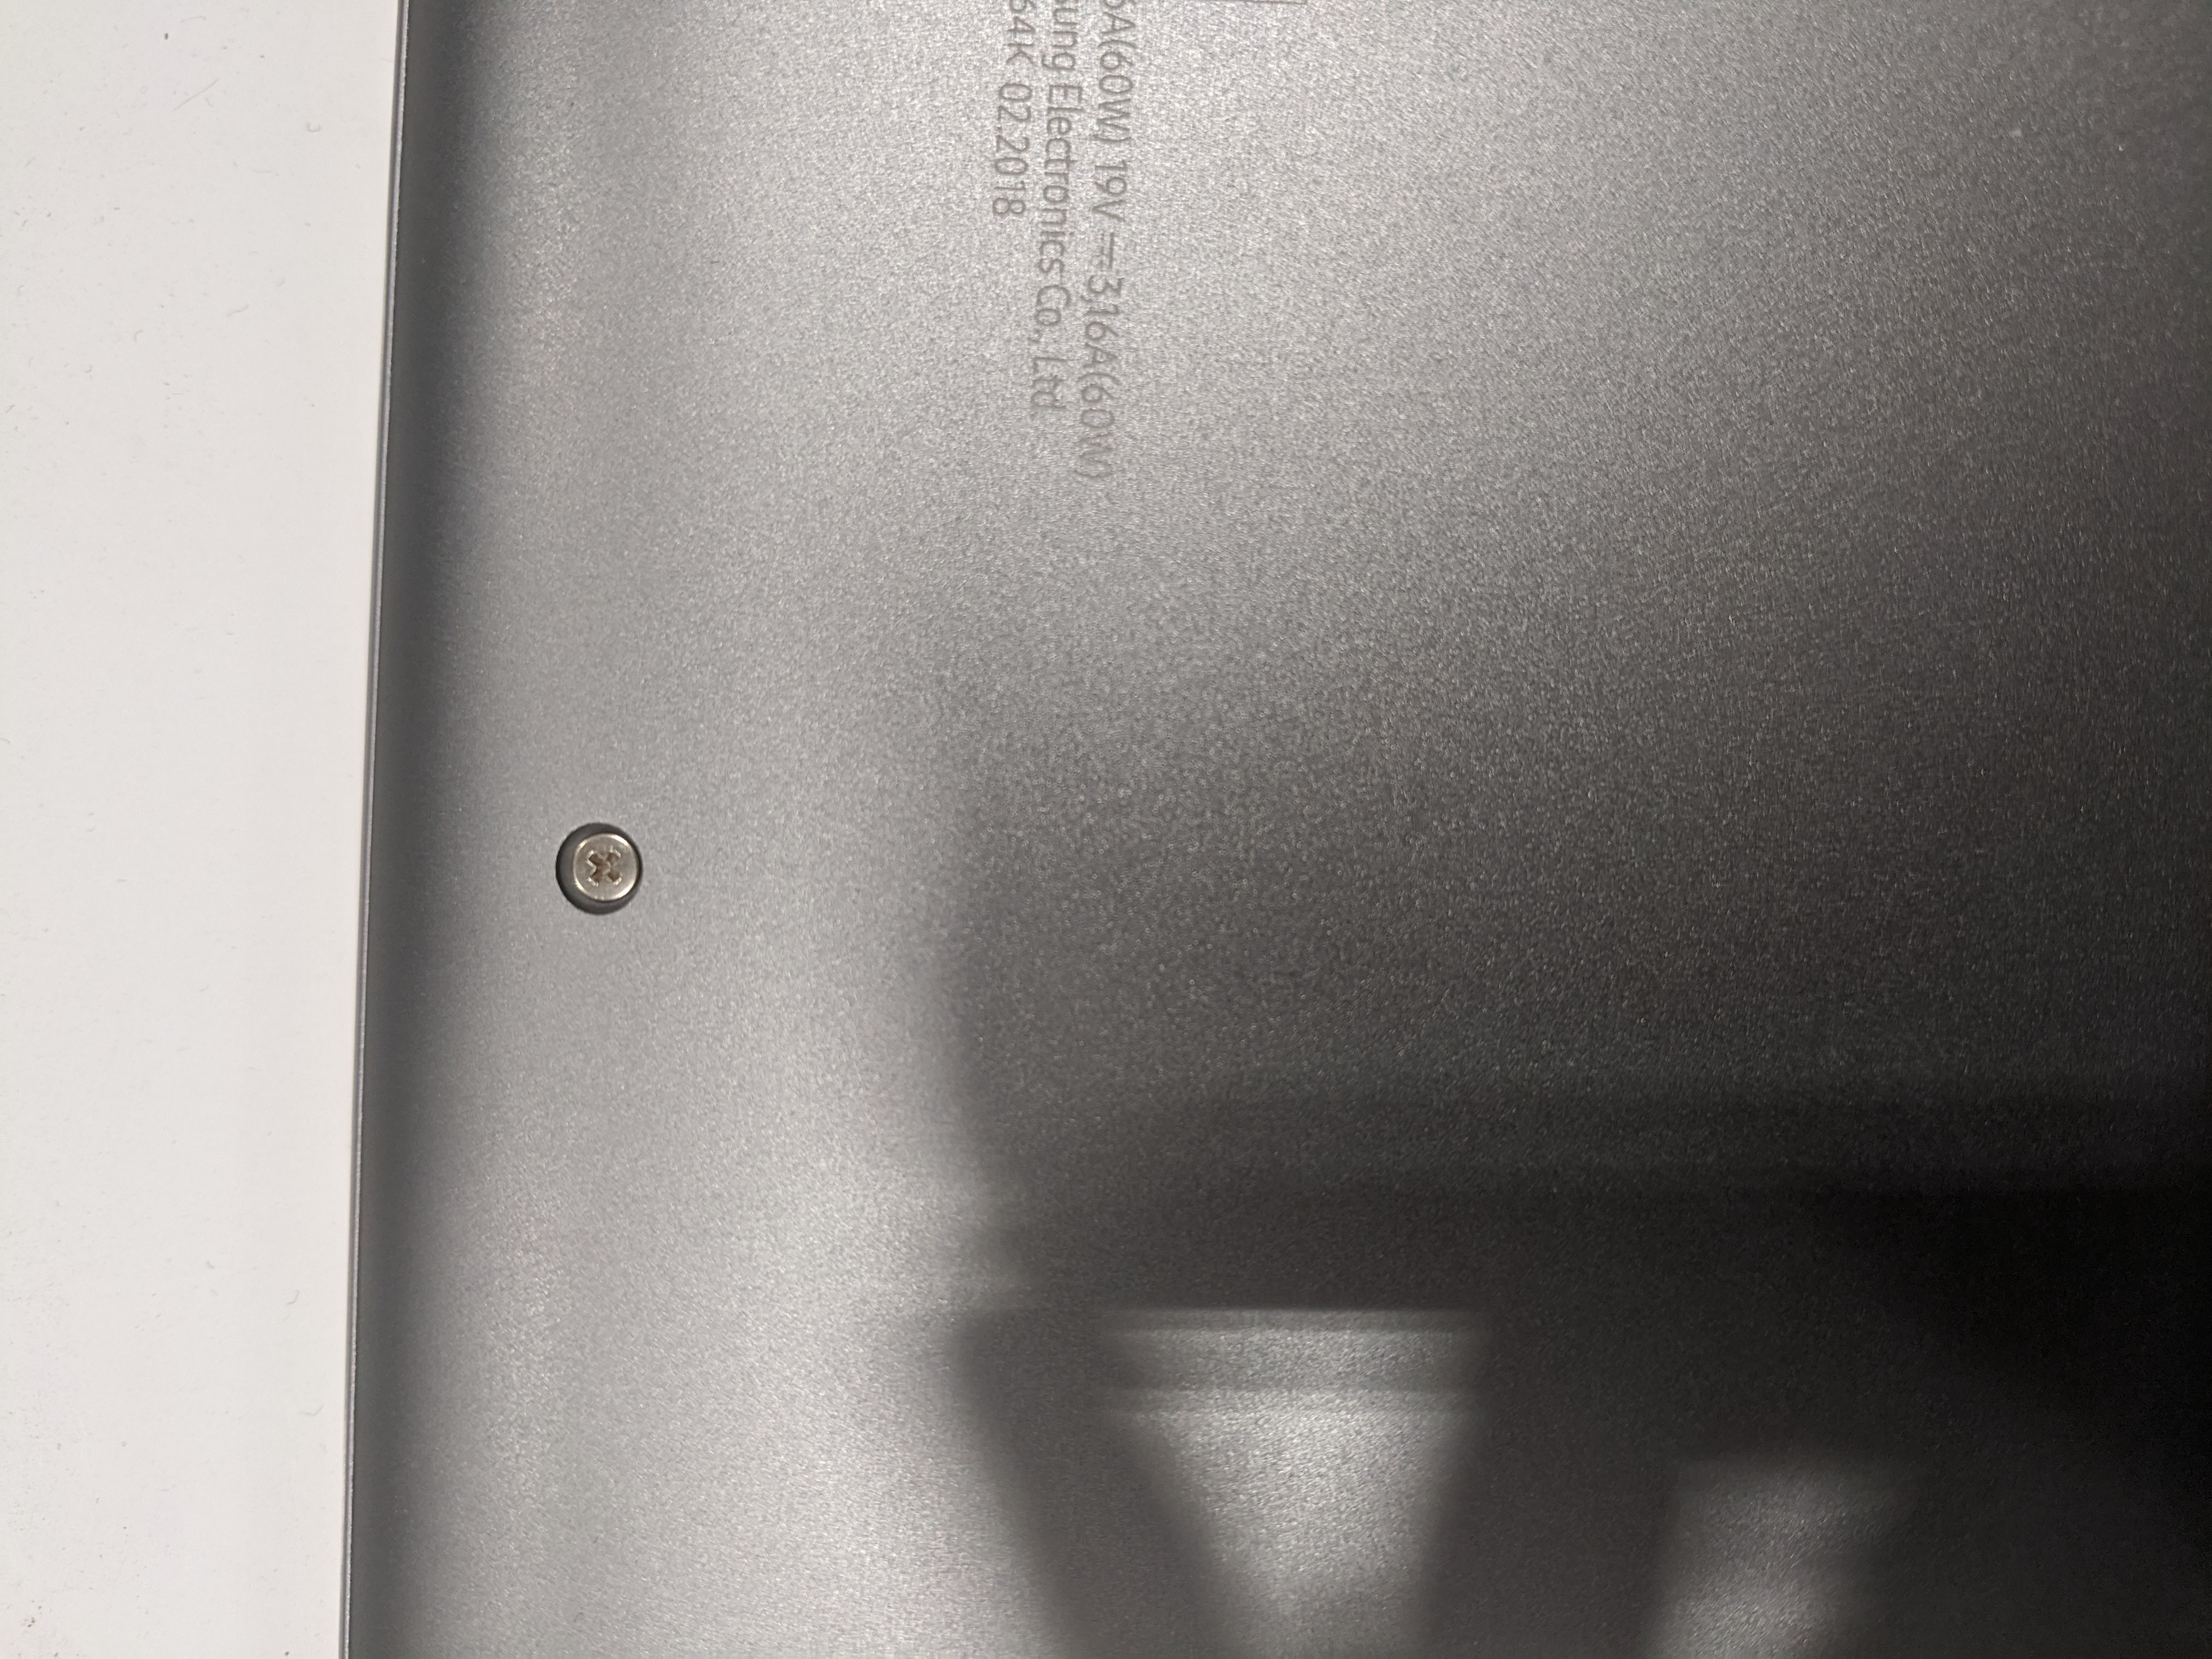cross_recessed_screw: (545, 809, 655, 911)
